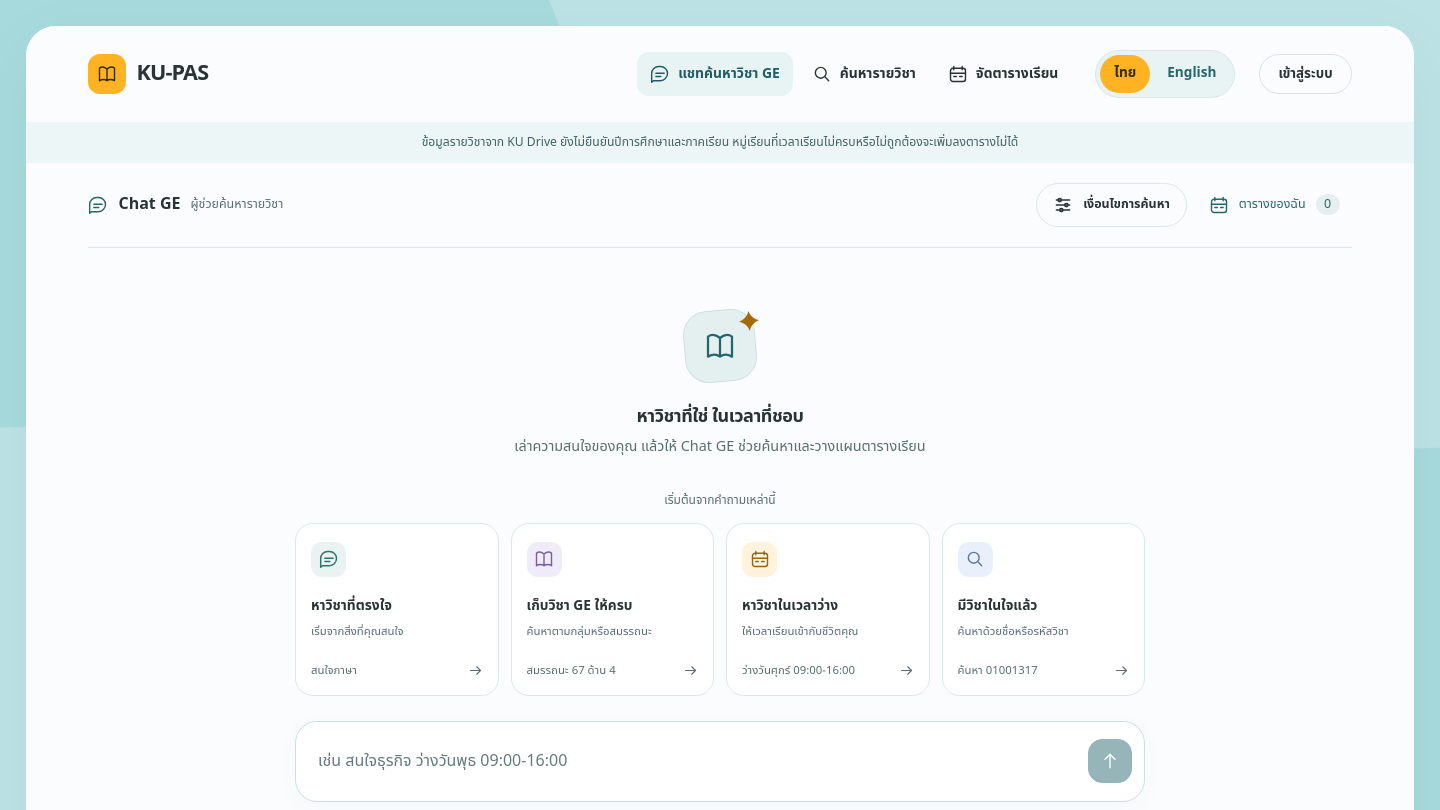
Test: guides the student through หาวิชาที่ตรงใจ before searching
Step 1. Click the button "หาวิชาที่ตรงใจ" → {"x": 397, "y": 609}, box x1=295 y1=523 x2=498 y2=696
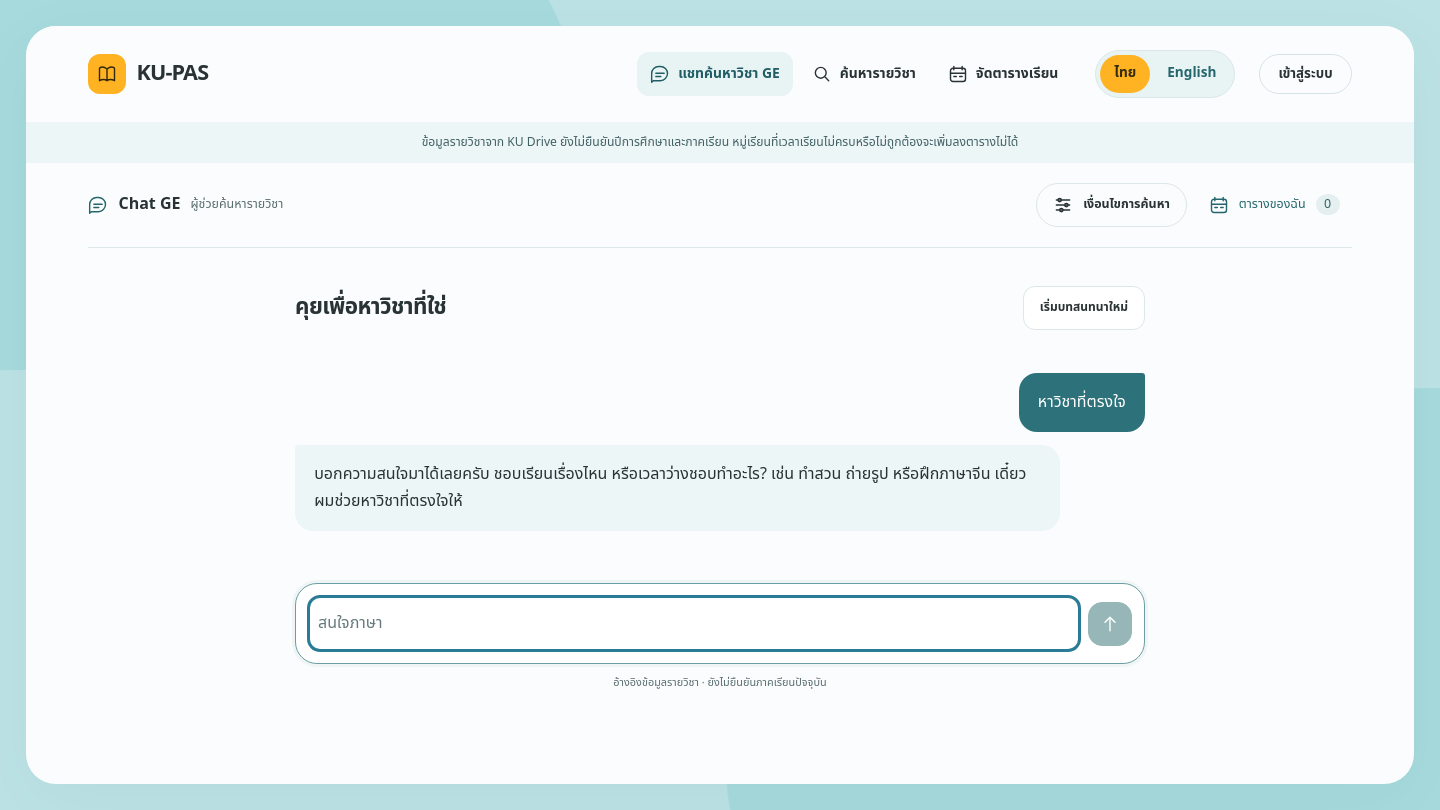
Check: the text "บอกความสนใจมาได้เลย" is shown, box x1=314 y1=462 x2=1026 y2=513
Step 2. Type "ถ่ายรูป" into the field named "ถามเรื่องรายวิชา GE" → {"x": 694, "y": 624}, box x1=308 y1=596 x2=1080 y2=651
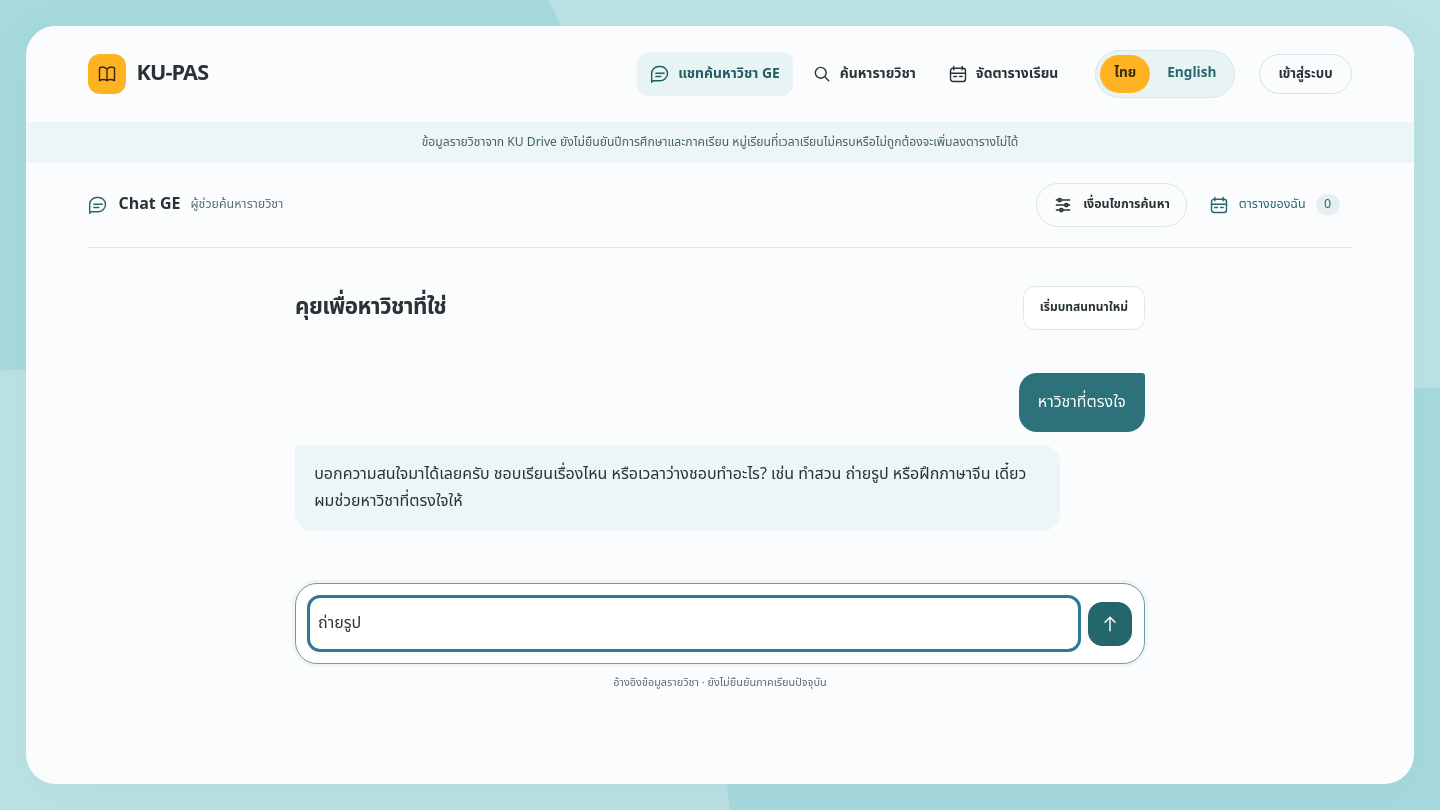
Check: the button named "ส่งข้อความ" is enabled
Step 3. Click the button named "ส่งข้อความ" → {"x": 1110, "y": 624}, box x1=1088 y1=602 x2=1132 y2=646
(page scrolled)
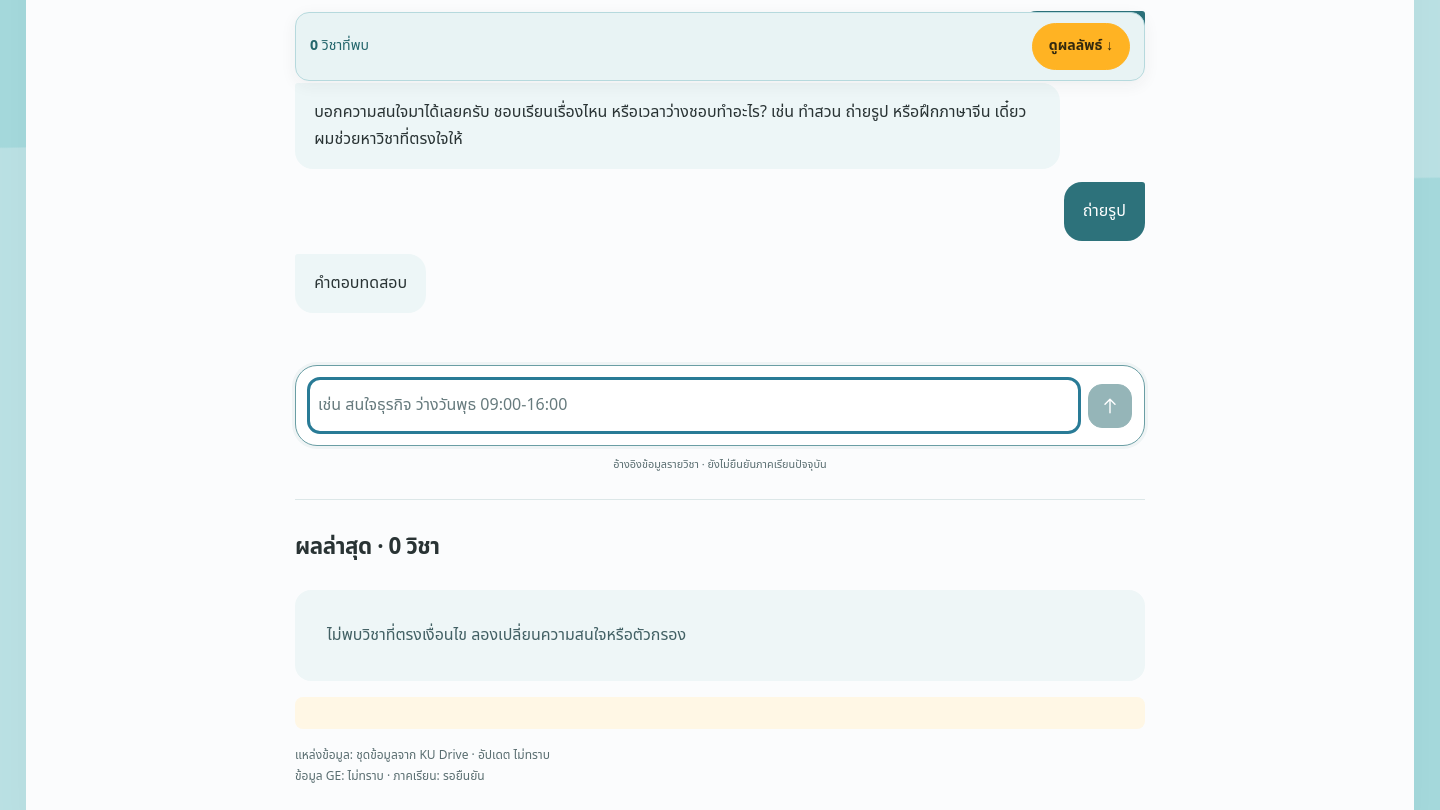
Check: the text "คำตอบทดสอบ" is shown, box x1=295 y1=254 x2=426 y2=313
Check: the text "ถ่ายรูป" is shown, box x1=1064 y1=182 x2=1145 y2=241
